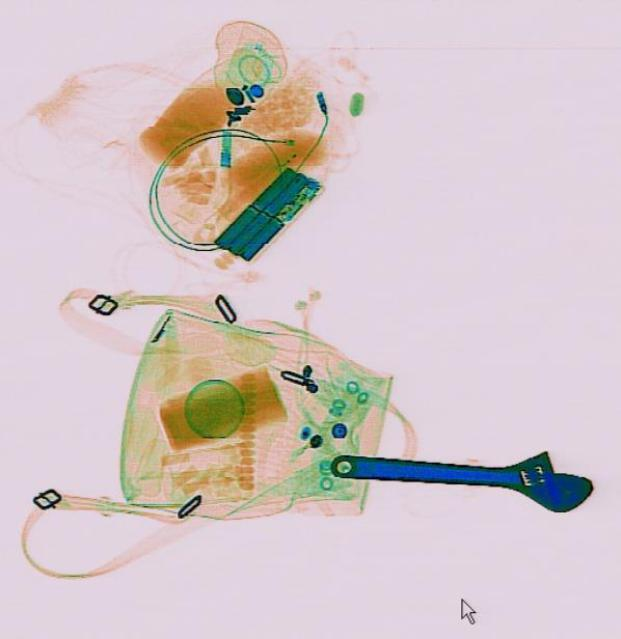Wrench: (326, 431, 595, 513)
